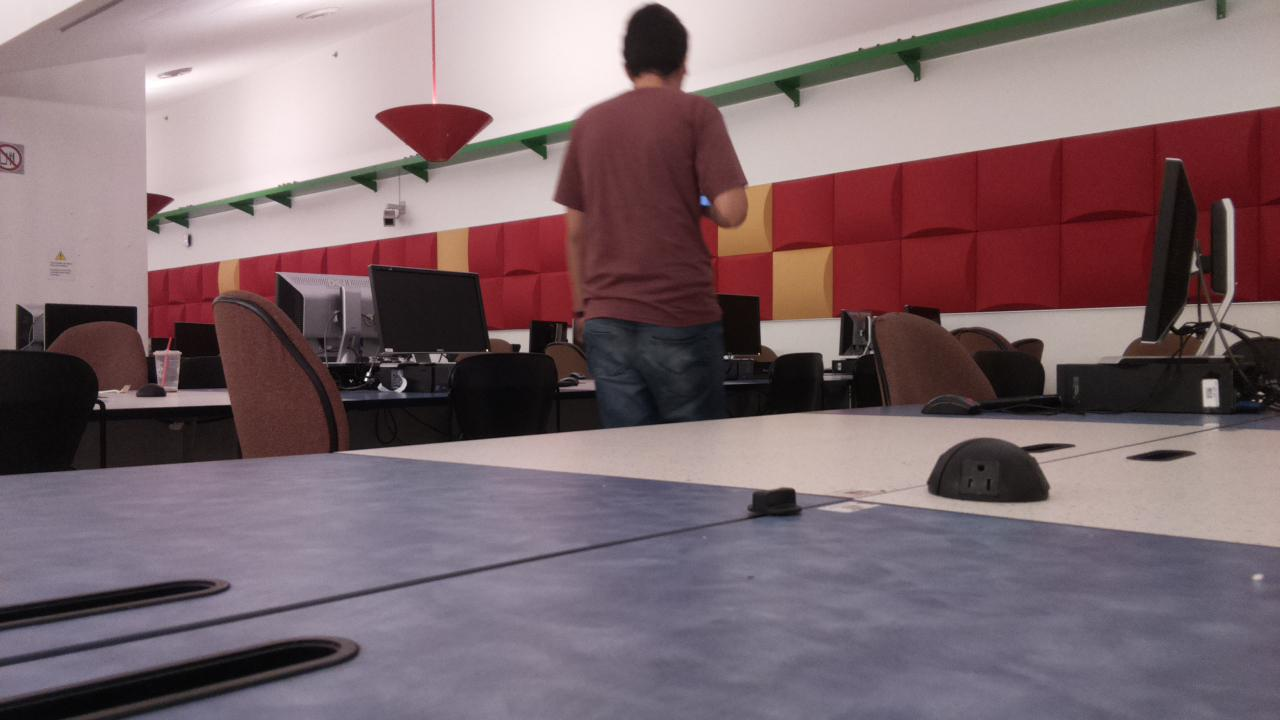person: (553, 4, 749, 429)
sign: (48, 248, 74, 279)
tvmonitor: (371, 265, 490, 351), (276, 274, 394, 357), (1144, 160, 1196, 343), (714, 294, 760, 355), (840, 310, 889, 354), (530, 321, 566, 355)
